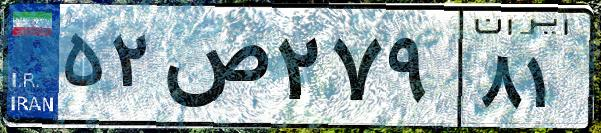1: (525, 38, 570, 115)
2: (270, 28, 330, 110), (110, 28, 158, 98)
5: (57, 26, 110, 100)
7: (330, 28, 385, 110)
8: (475, 38, 525, 113)
9: (385, 28, 445, 110)
ص: (158, 20, 270, 120)
